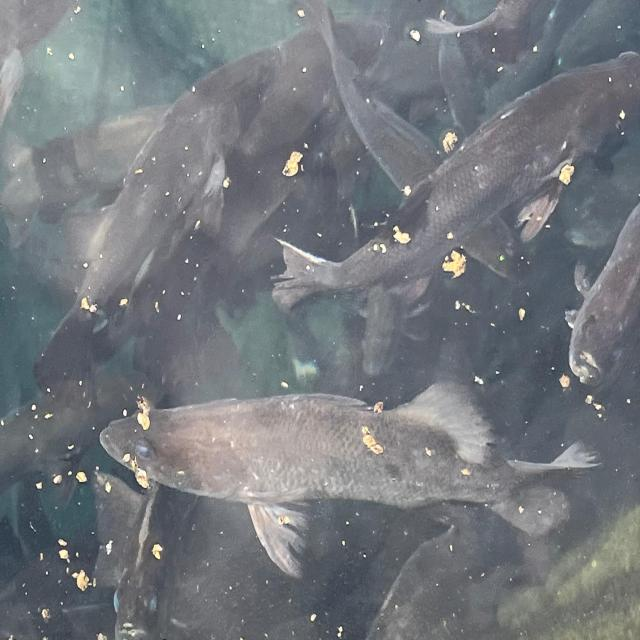ikan: (98, 378, 603, 579), (270, 48, 638, 316)
